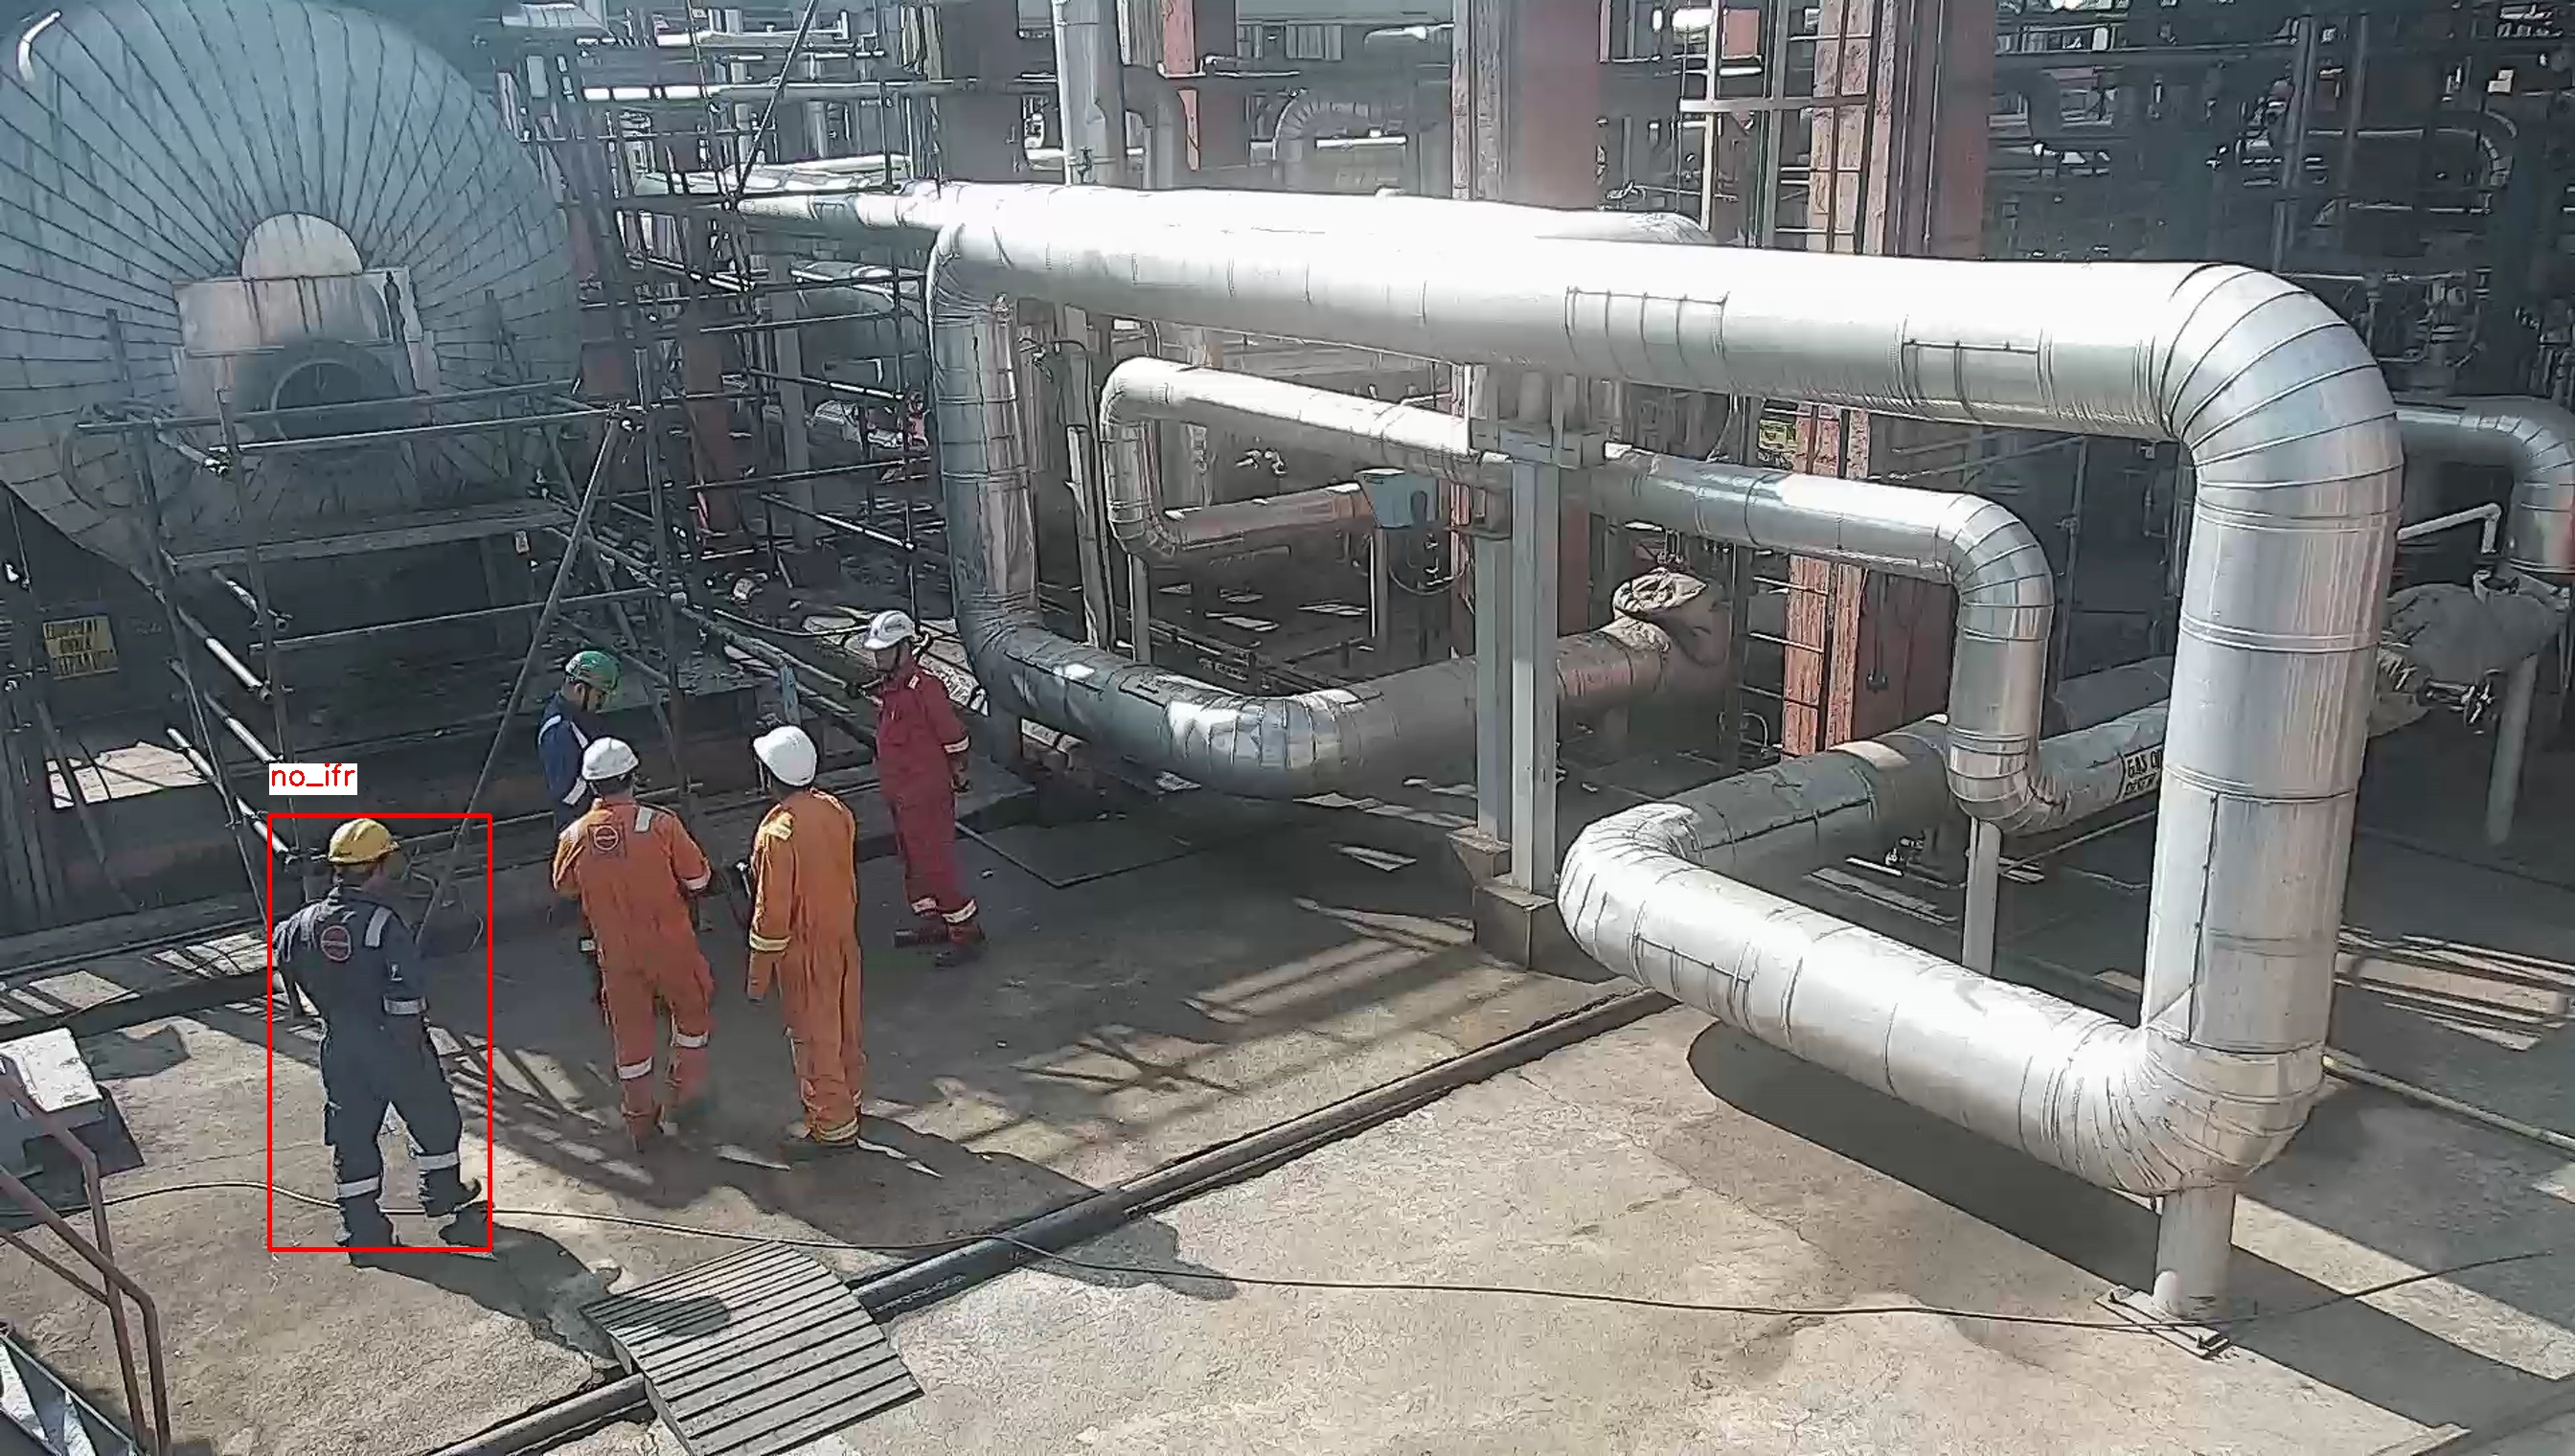Helmets: (743, 720, 822, 791), (322, 823, 409, 870), (580, 732, 640, 782), (865, 609, 925, 656)
IFR_Suit: (285, 899, 462, 1192), (554, 803, 732, 1093), (750, 791, 884, 1134), (860, 667, 997, 932)
